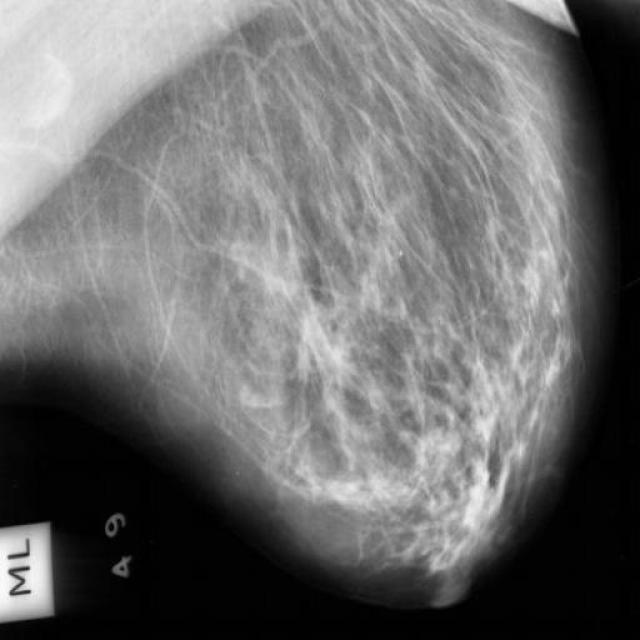cancer: (293, 292, 337, 371)
